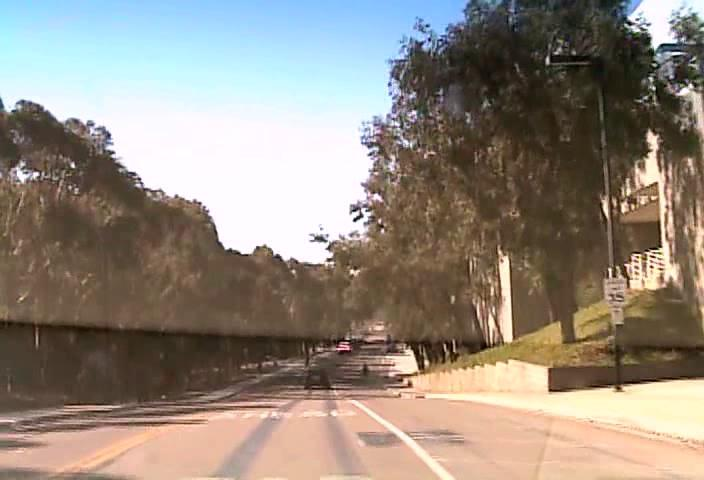speedLimit35: (602, 277, 627, 307)
